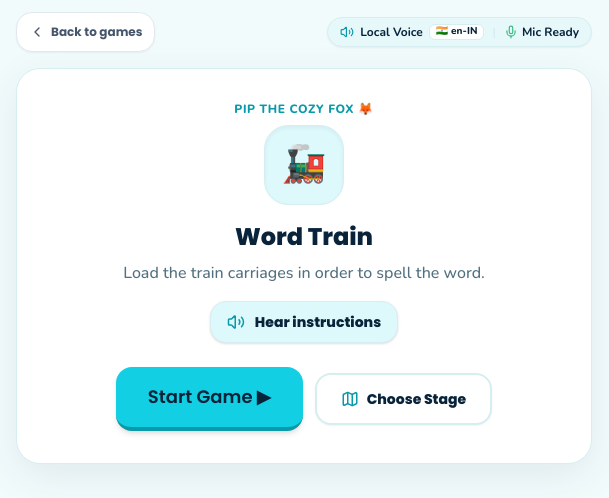
Test: Word Train Game Suite (/child/games/word-train) › 10. undoes the most recently placed letter via the Undo Letter button and re-enables its tile
Click the button "Start Game ▶": coordinates (209, 399) left=116, top=367, right=303, bottom=431
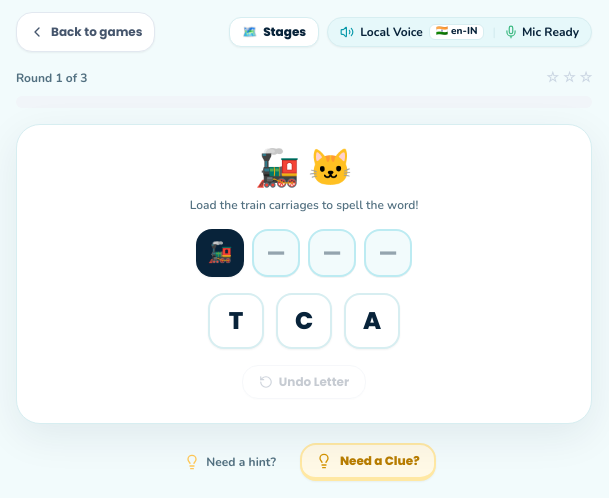
Check: the button with test id "undo-letter-button" is disabled, box left=242, top=365, right=366, bottom=399
Click the button named "Carriage C": coordinates (304, 321) left=276, top=293, right=332, bottom=349
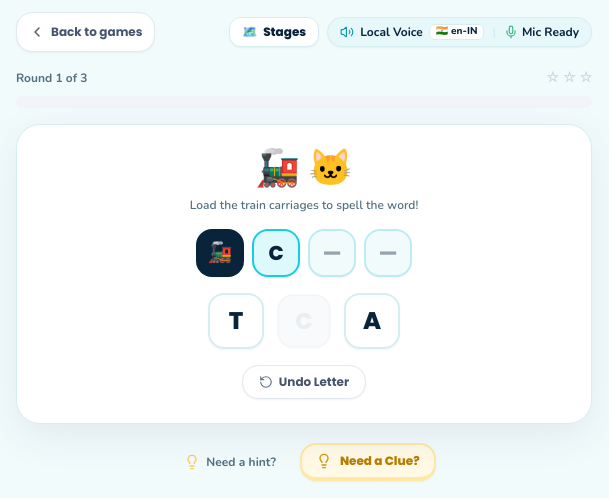
Check: the button with test id "undo-letter-button" is enabled
Check: the button named "Slot 1: C" is shown, box left=252, top=229, right=300, bottom=277
Click undo button
Click the button with test id "undo-letter-button": coordinates (304, 382) left=242, top=365, right=366, bottom=399
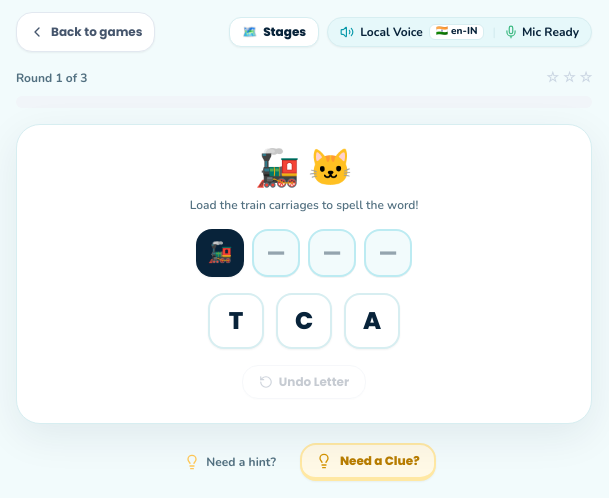
Check: the number of buttons "—" is 3, box left=252, top=229, right=300, bottom=277; left=308, top=229, right=356, bottom=277; left=364, top=229, right=412, bottom=277
Check: the button named "Carriage C" is enabled, box left=276, top=293, right=332, bottom=349
Check: the button with test id "undo-letter-button" is disabled, box left=242, top=365, right=366, bottom=399
